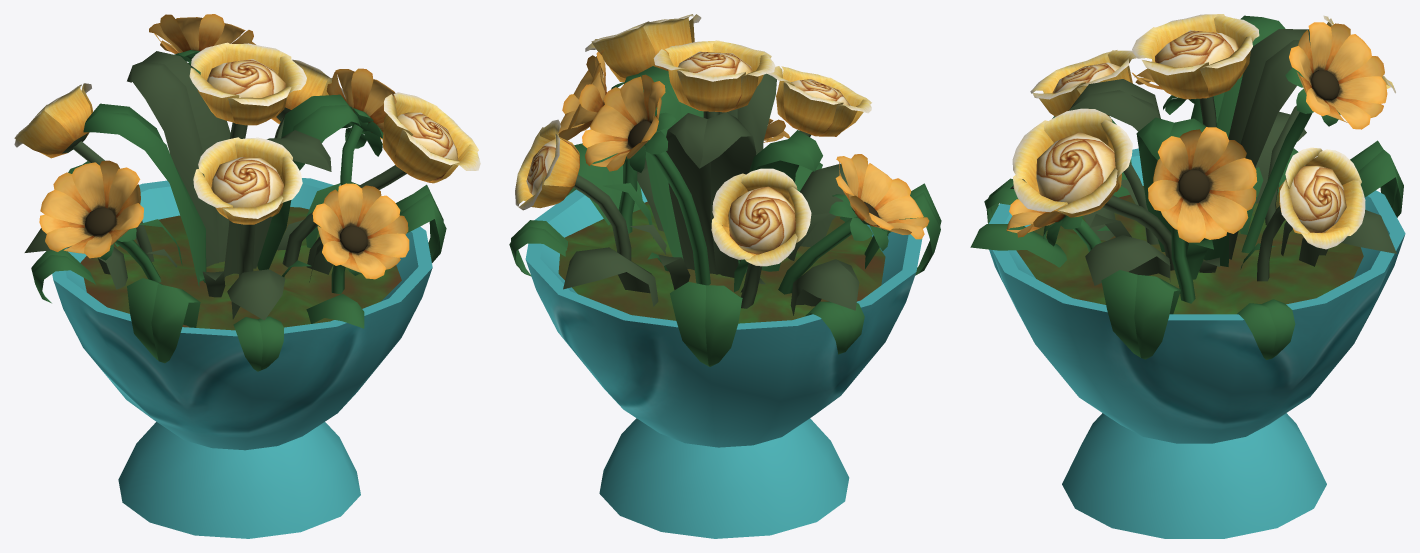
Rendered from CI_028_flower_pot.glb.
The picture shows the model from 3 angles, left to right: view 1: azimuth 30°, elevation 25°; view 2: azimuth 150°, elevation 25°; view 3: azimuth 270°, elevation 25°; orthographic projection. The views are drawn at different scales.
Parts seen in each view (by area): view 1: pot, leaves huge.001, daisy_petal.001, daisy_petal.002, leaves medium, rose_petal.003, rose_petal.002, leaves huge.002, rose_petal.001, leaves big, leaves huge, leaves small (+16 smaller); view 2: pot, leaves big, leaves huge.001, leaves medium, rose_petal.003, daisy_petal.003, daisy_petal.001, daisy_stems, rose_petal.004, rose_petal.001, rose_petal.002, rose.004 (+14 smaller); view 3: pot, daisy_petal.004, leaves medium, daisy_petal.003, rose_petal.002, leaves big, rose_petal.003, leaves huge.001, rose.002, rose_stems, rose_petal.005, daisy_stems (+15 smaller).
Boxes of the visible parts, bbox=[...] form: pot: bbox=[52, 178, 432, 538]; leaves huge.001: bbox=[127, 51, 230, 266]; daisy_petal.001: bbox=[39, 160, 143, 258]; daisy_petal.002: bbox=[312, 183, 409, 279]; leaves medium: bbox=[68, 161, 446, 363]; rose_petal.003: bbox=[189, 42, 306, 125]; rose_petal.002: bbox=[382, 92, 480, 183]; leaves huge.002: bbox=[83, 103, 206, 286]; rose_petal.001: bbox=[193, 137, 302, 224]; leaves big: bbox=[24, 228, 333, 320]; leaves huge: bbox=[257, 94, 360, 270]; leaves small: bbox=[31, 182, 359, 371]; pot: bbox=[525, 188, 922, 538]; leaves big: bbox=[563, 158, 859, 315]; leaves huge.001: bbox=[666, 112, 756, 277]; leaves medium: bbox=[566, 143, 941, 366]; rose_petal.003: bbox=[653, 40, 775, 112]; daisy_petal.003: bbox=[582, 74, 665, 171]; daisy_petal.001: bbox=[835, 154, 929, 239]; daisy_stems: bbox=[618, 145, 856, 294]; rose_petal.004: bbox=[711, 168, 811, 266]; rose_petal.001: bbox=[767, 66, 871, 136]; rose_petal.002: bbox=[585, 14, 701, 82]; rose.004: bbox=[728, 186, 795, 254]; pot: bbox=[989, 148, 1405, 538]; daisy_petal.004: bbox=[1148, 127, 1257, 242]; leaves medium: bbox=[1052, 116, 1403, 359]; daisy_petal.003: bbox=[1289, 22, 1387, 129]; rose_petal.002: bbox=[1012, 108, 1132, 217]; leaves big: bbox=[1010, 111, 1396, 285]; rose_petal.003: bbox=[1132, 14, 1259, 99]; leaves huge.001: bbox=[1228, 29, 1310, 259]; rose.002: bbox=[1036, 132, 1115, 203]; rose_stems: bbox=[1103, 96, 1299, 281]; rose_petal.005: bbox=[1278, 147, 1365, 249]; daisy_stems: bbox=[1073, 99, 1312, 303].
Bounding box in the file's own units: 0.9089 × 1 × 0.8516.
5 materials, 1 textured.
